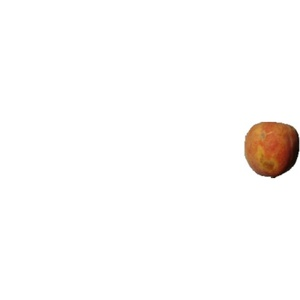pêssego: (242, 122, 300, 180)
